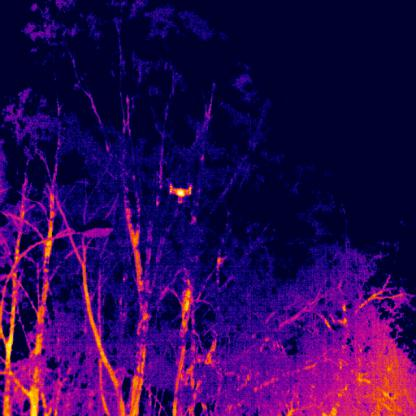drone: (169, 184, 192, 202)
